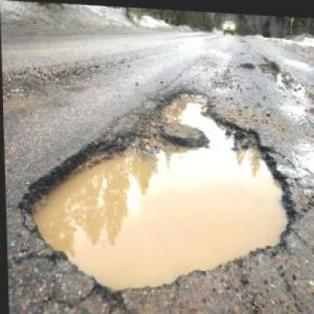Hueco: (14, 76, 298, 304)
